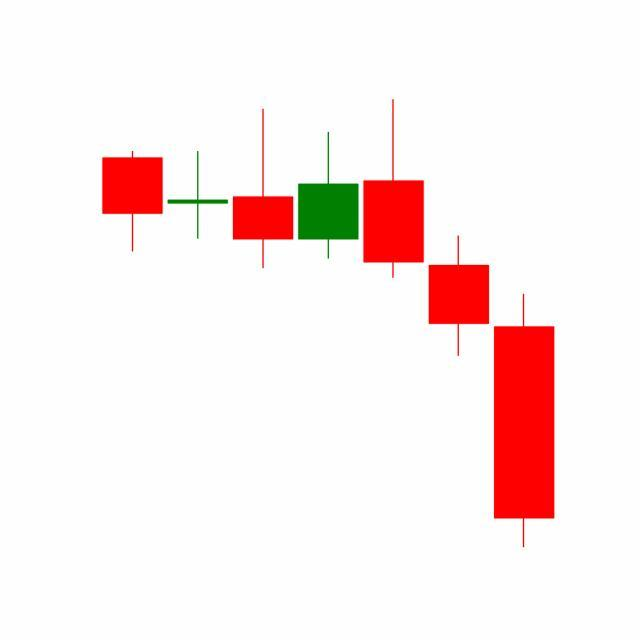Three Outside Up-Down: (295, 100, 492, 361)
